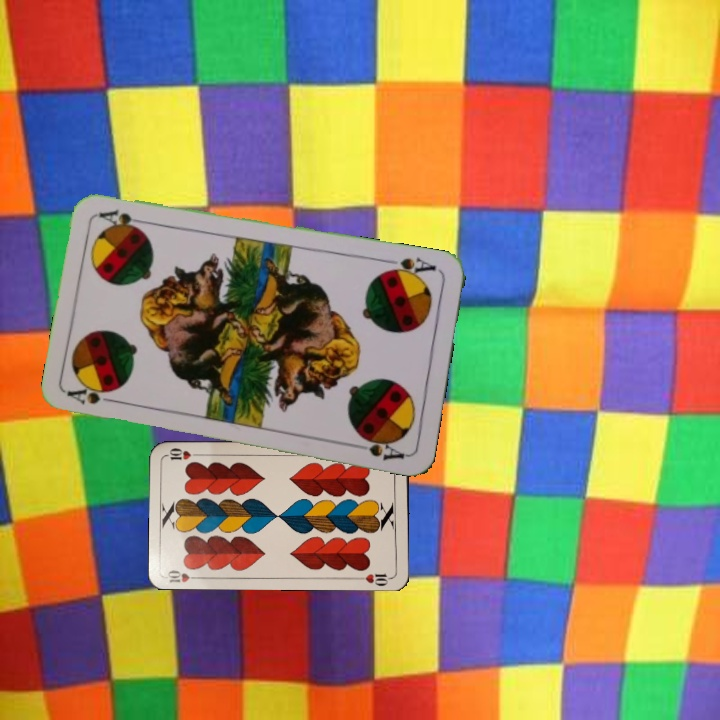H10: (163, 566, 204, 585)
SA: (380, 253, 439, 281), (64, 385, 123, 407)
